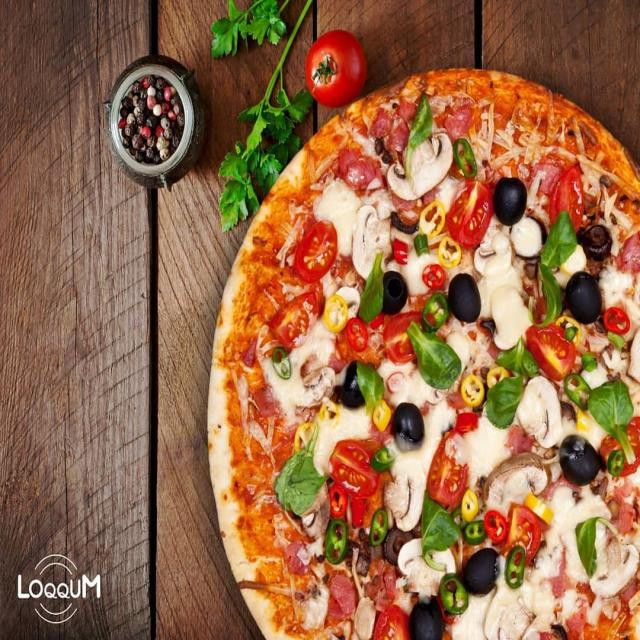black_olives: (456, 544, 500, 598), (404, 590, 448, 640), (566, 270, 602, 329), (560, 434, 599, 486), (492, 172, 527, 229), (449, 271, 484, 328), (376, 267, 410, 321), (336, 357, 368, 407), (392, 400, 427, 443), (580, 220, 610, 258), (382, 527, 412, 565)
mushrooms: (481, 448, 546, 518), (388, 131, 452, 201), (487, 584, 554, 640), (396, 536, 454, 596), (381, 454, 424, 529), (590, 532, 636, 598), (521, 376, 560, 449), (349, 204, 386, 270), (294, 478, 329, 538), (294, 367, 328, 410), (469, 239, 501, 276), (625, 332, 640, 384)
peppers: (562, 366, 599, 416), (439, 572, 472, 614), (325, 518, 351, 567), (422, 290, 452, 330), (322, 291, 346, 337), (367, 506, 394, 546), (454, 132, 478, 177), (505, 542, 528, 586), (458, 372, 486, 406), (436, 234, 464, 268), (345, 316, 372, 350), (604, 303, 628, 337), (373, 395, 395, 431), (269, 344, 290, 381), (484, 509, 508, 541), (420, 204, 443, 234), (462, 483, 481, 518), (423, 264, 446, 289), (294, 423, 314, 450), (608, 446, 624, 479), (370, 445, 392, 468), (462, 519, 484, 542)
pizza: (207, 69, 640, 640)
